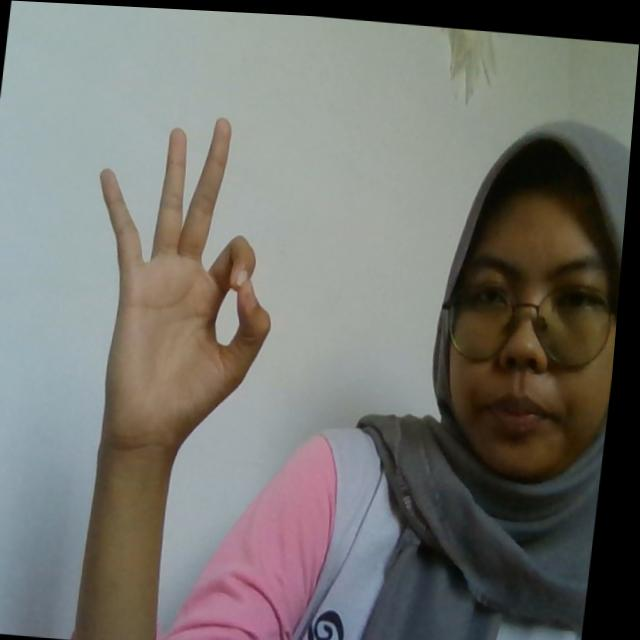F: (75, 105, 298, 450)
